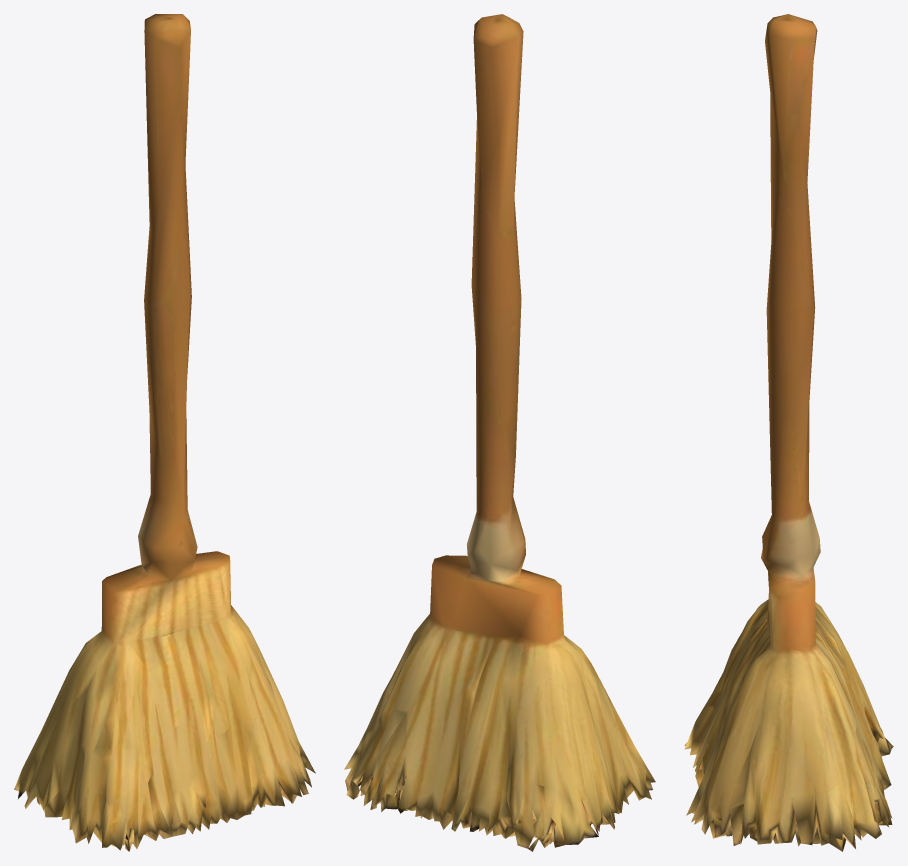
Rendered from broom.glb.
3 views of the same model, side by side, from view 1: azimuth 30°, elevation 25°; view 2: azimuth 150°, elevation 25°; view 3: azimuth 270°, elevation 25° (orthographic).
Bounding box in the file's own units: 0.6864 × 2 × 0.4859.
Materials: 1 (1 with a texture image).
